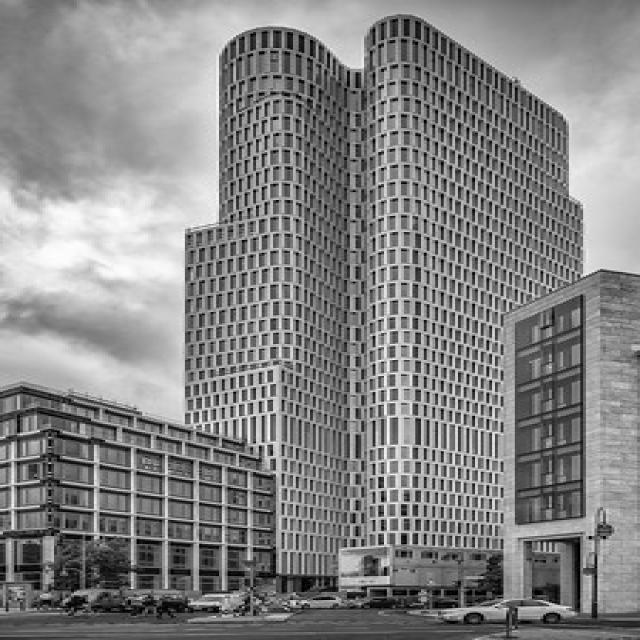building: (169, 14, 593, 632)
